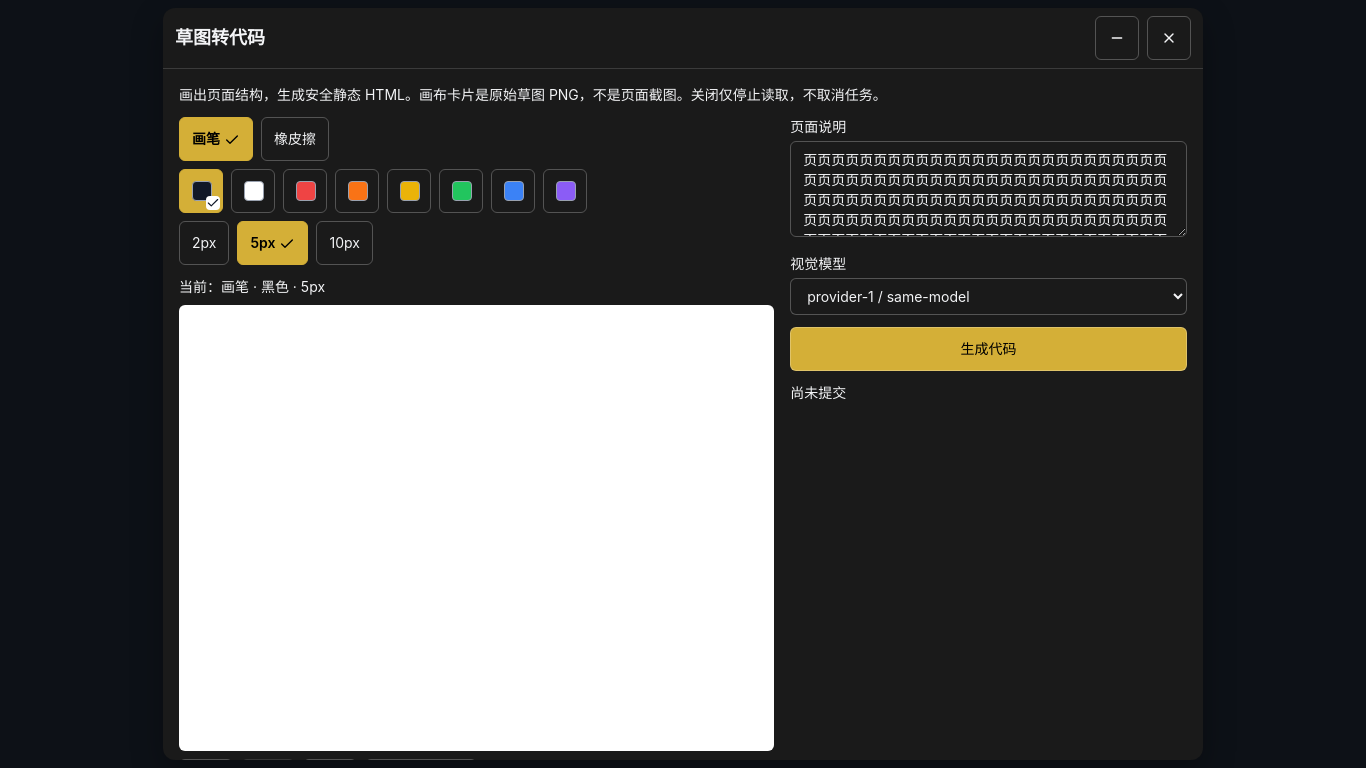
Scenario: admission input and pending-copy contract › uses the server input limit and submits the complete accepted boundary (0)
Click the button "生成代码" at (989, 349), box x1=790 y1=327 x2=1187 y2=371
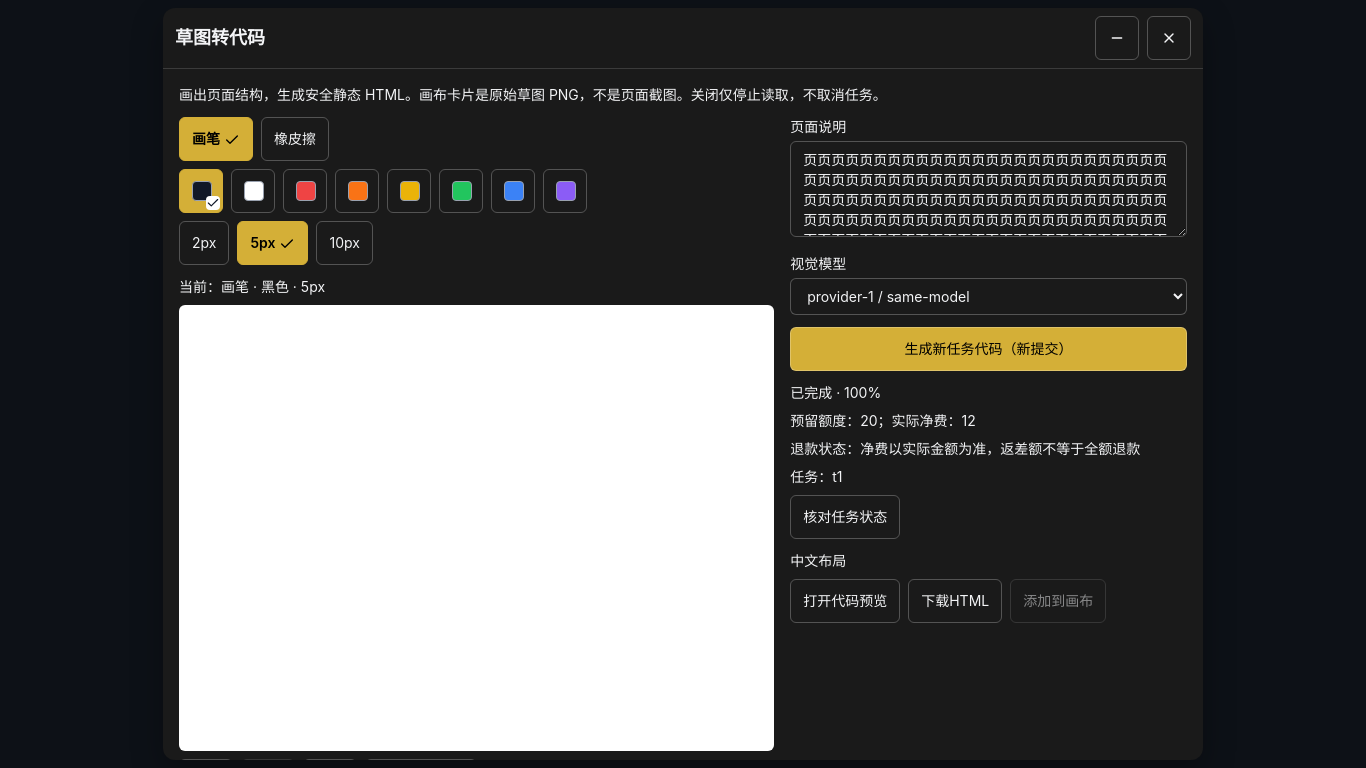
expect the text "中文布局" is shown: met, box x1=790 y1=552 x2=846 y2=569
